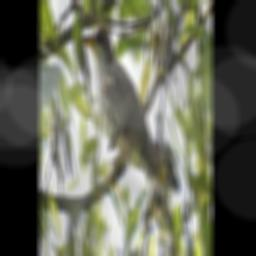Cuckoo: (82, 23, 187, 256)
